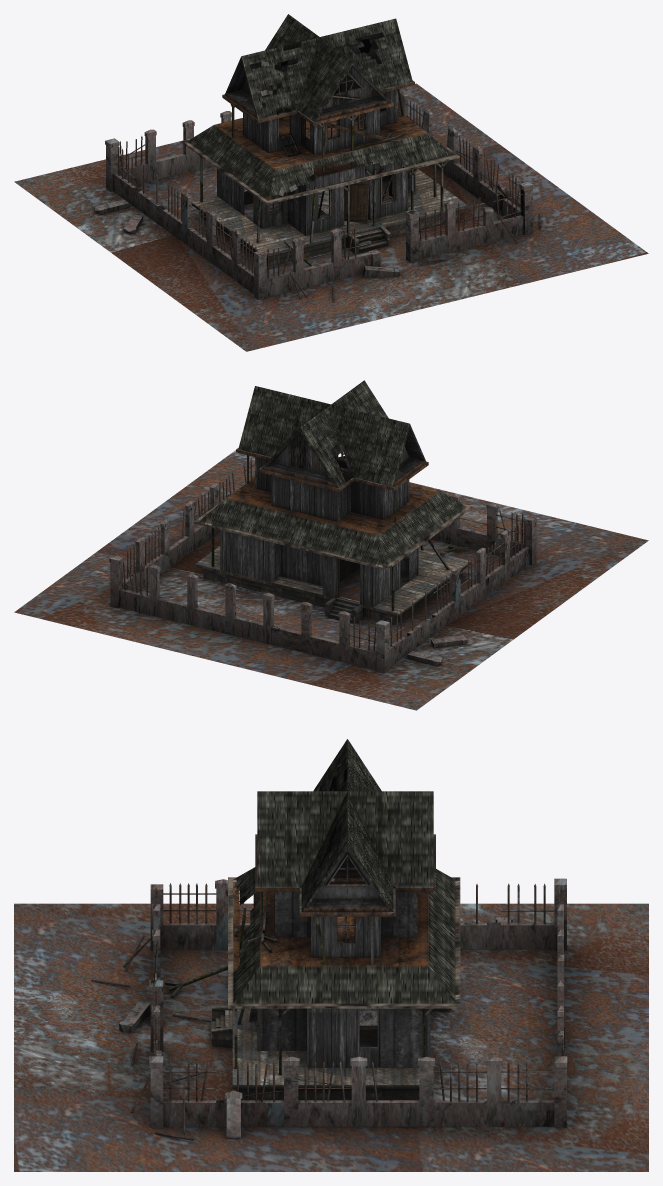
Rendered from haunted_ghost_free_house.glb.
3 renders of one model, top to bottom at view 1: azimuth 30°, elevation 25°; view 2: azimuth 150°, elevation 25°; view 3: azimuth 270°, elevation 25°, orthographic. The views are drawn at different scales.
Visible parts, largest first — view 1: HOUSE.001_0; view 2: HOUSE.001_0; view 3: HOUSE.001_0.
Boxes of the visible parts, <box> form: HOUSE.001_0: <box>14,14,648,351</box>; HOUSE.001_0: <box>14,380,648,710</box>; HOUSE.001_0: <box>14,739,648,1171</box>.
Bounding box in the file's own units: 8.65 × 3.74 × 8.65.
1 material, 1 textured.
